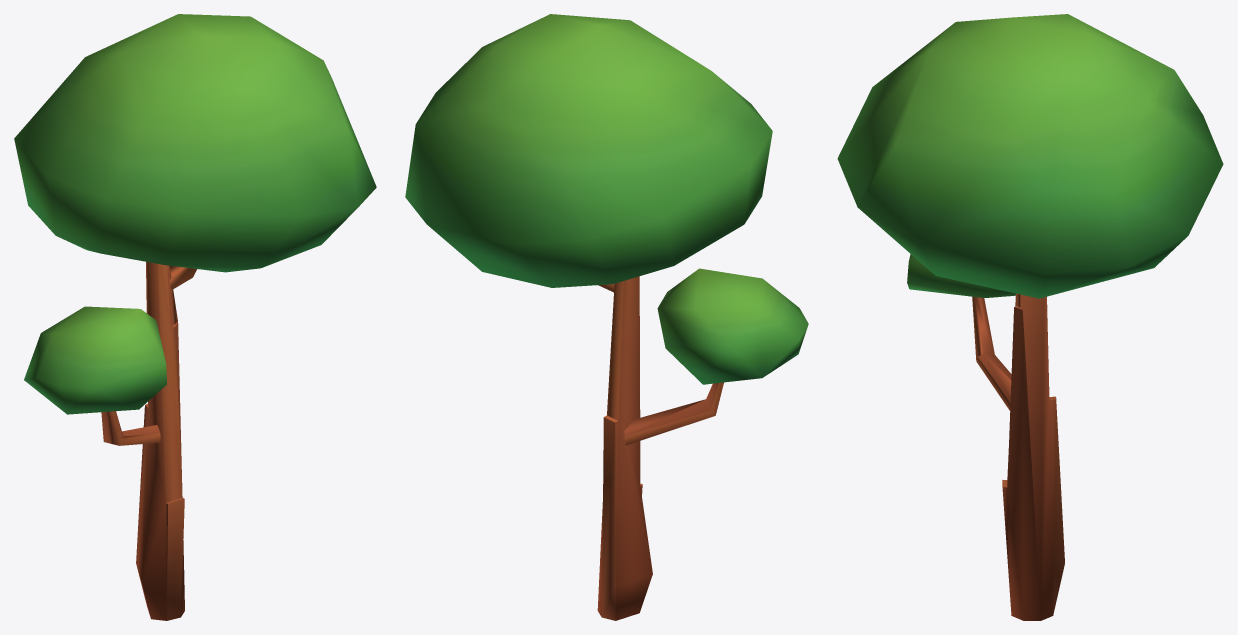
File: kk-tree.lod.glb
3 renders of one model, left to right at view 1: azimuth 30°, elevation 25°; view 2: azimuth 150°, elevation 25°; view 3: azimuth 270°, elevation 25°, orthographic. The views are drawn at different scales.
Parts seen in each view (by area): view 1: Tree_7_A_Color1; view 2: Tree_7_A_Color1; view 3: Tree_7_A_Color1.
Part boxes in pixels (x1,y1,x2,y2): Tree_7_A_Color1: (14, 14, 376, 620); Tree_7_A_Color1: (405, 14, 808, 620); Tree_7_A_Color1: (837, 14, 1223, 620).
Size of the model in its own units: 3.1 by 5.09 by 2.89.
1 material, 1 textured.
